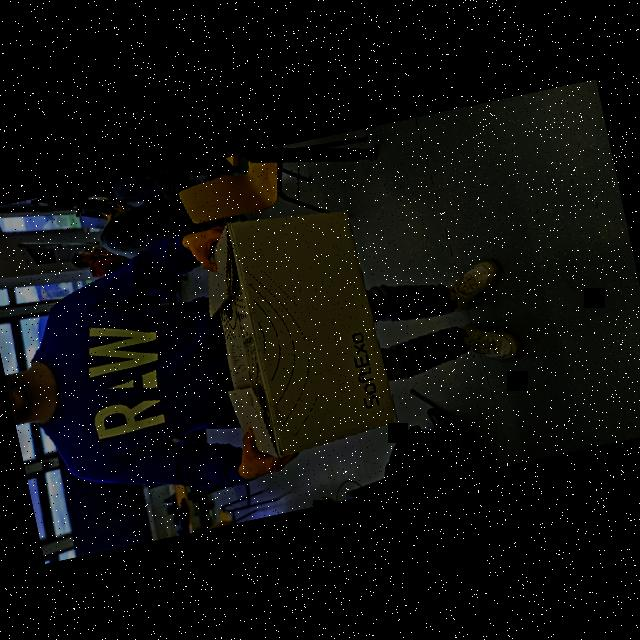cardboard_box: (186, 197, 406, 480)
